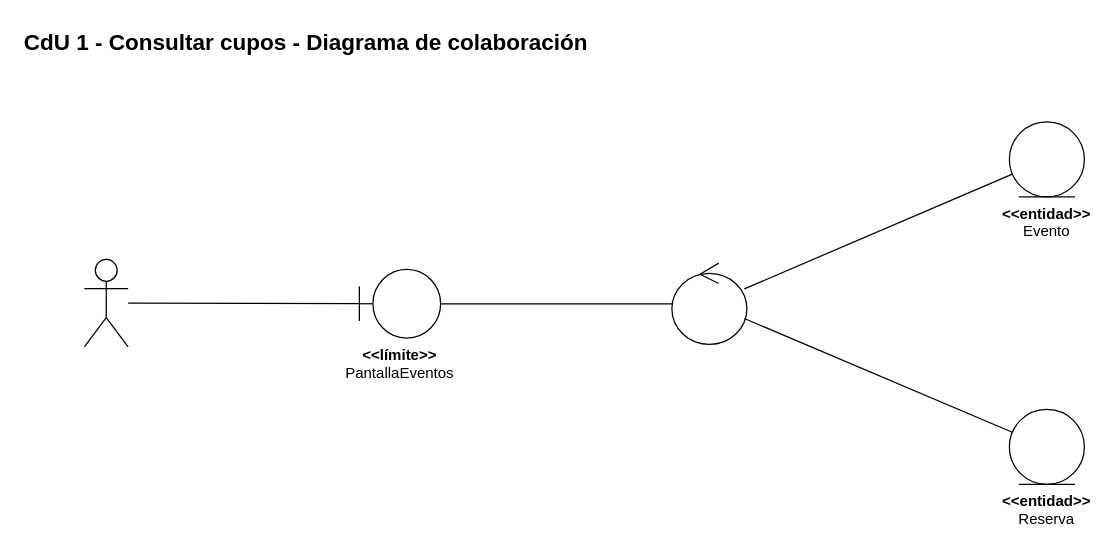
Some shapes in this 1113 by 550 pixel diagram are drawn without their labels. Here are the shapes that lost their labels. From the top down, the centre of each, then its label:
the point at 105,302: <<actor>> Estudiante
the point at 709,303: <<control>> CalcularDisponibilidad
